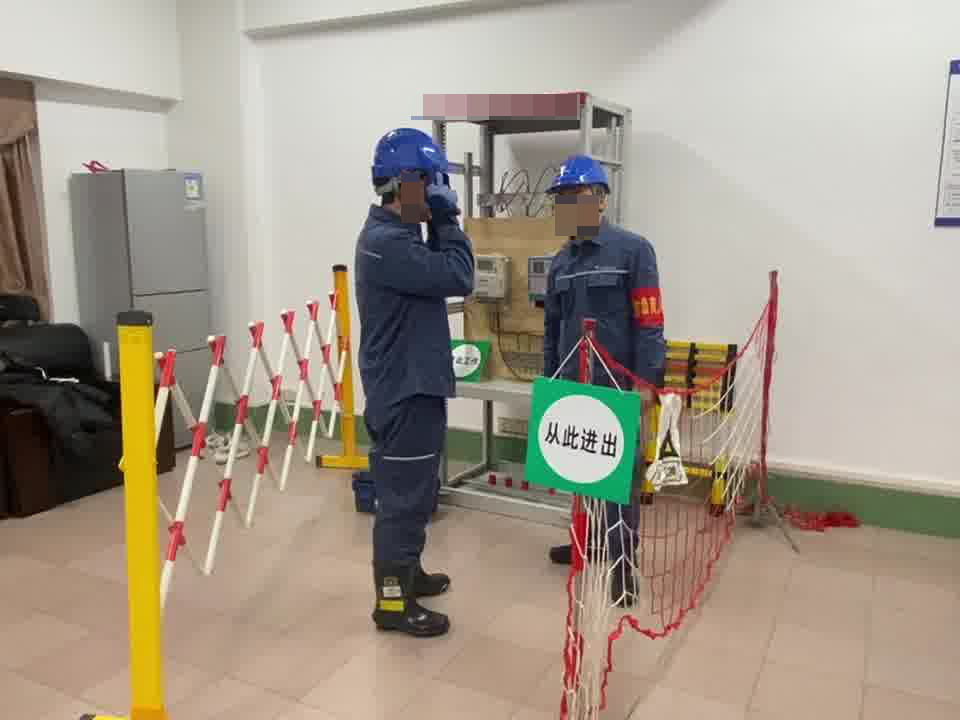badge: (629, 285, 666, 330)
downsuit: (360, 401, 449, 571)
glove: (424, 166, 457, 214)
halt: (368, 125, 457, 216), (543, 152, 615, 240)
inear: (387, 170, 420, 209), (587, 184, 608, 218)
intosign: (525, 376, 629, 501)
person: (347, 124, 481, 630), (529, 149, 679, 598)
shoe: (369, 565, 448, 634)
upsuit: (354, 205, 476, 395), (540, 229, 670, 385)
worksign: (450, 338, 486, 381)
